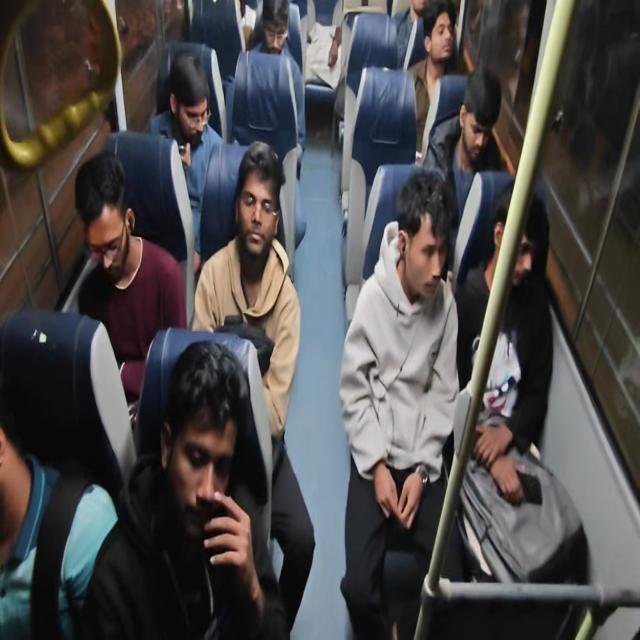person: (81, 339, 289, 639), (191, 140, 316, 635), (338, 167, 461, 638), (454, 184, 556, 584), (74, 151, 187, 411), (0, 418, 119, 639), (145, 52, 224, 270), (232, 0, 306, 172), (422, 66, 503, 222), (406, 0, 460, 164), (303, 0, 342, 89), (394, 0, 429, 70)
